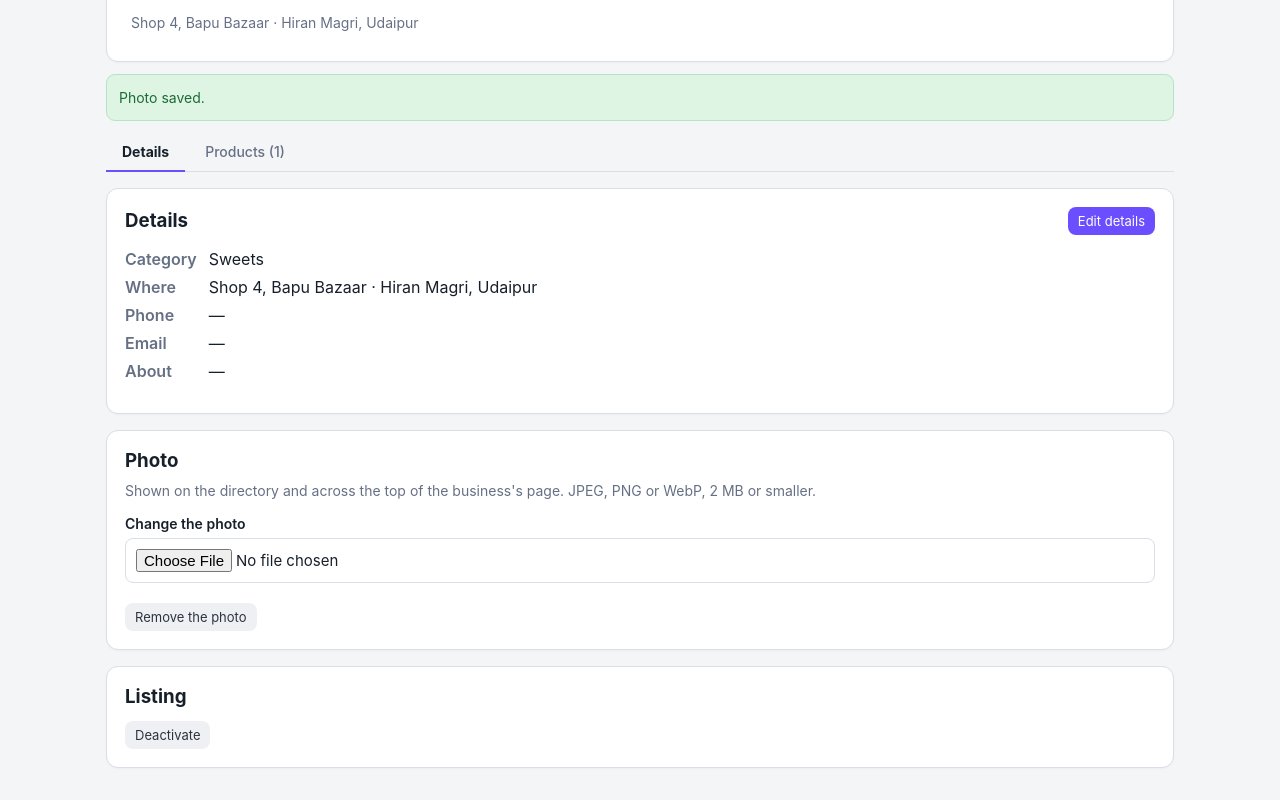
ManageBusinessComponent › uploads and removes the business photo
(page scrolled)
Click the button "Remove the photo" at (191, 617), box [125, 603, 256, 631]
(page scrolled)
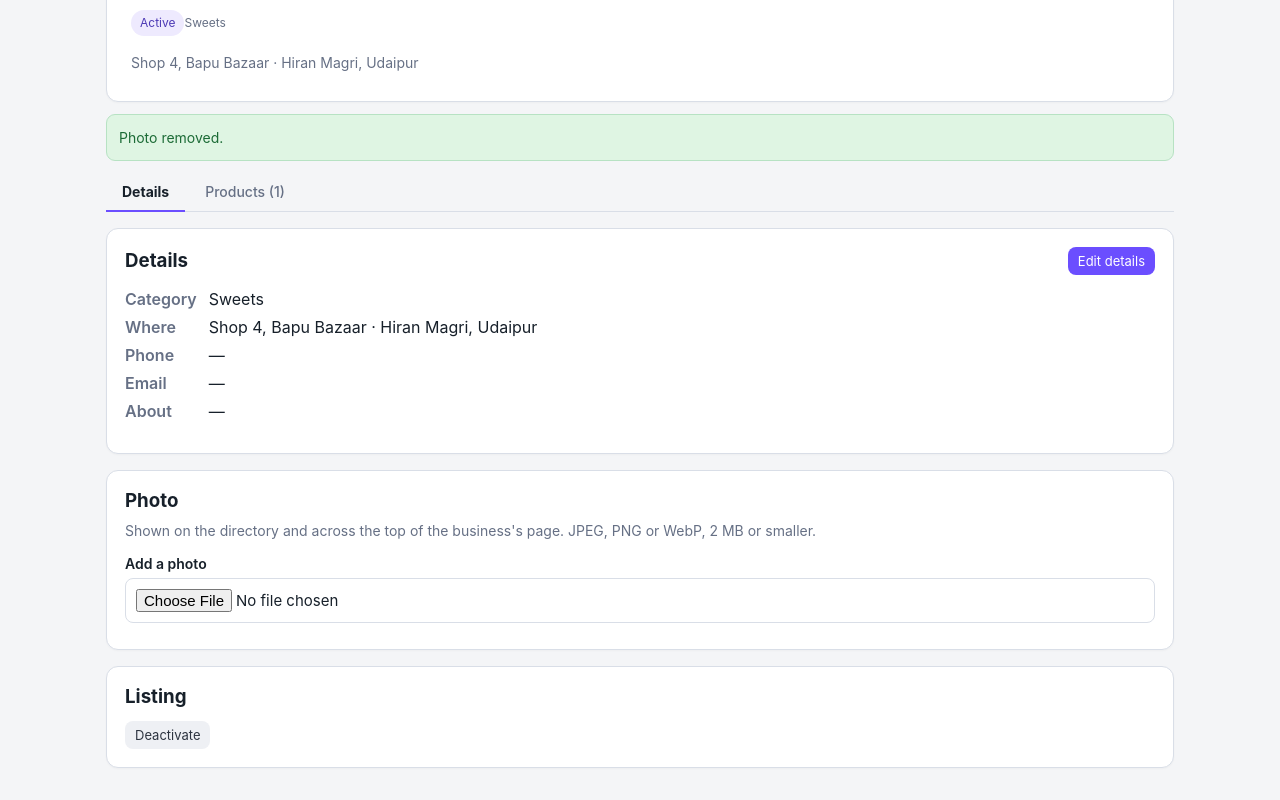
expect the text "Photo removed." is shown: met, box [106, 114, 1174, 161]
